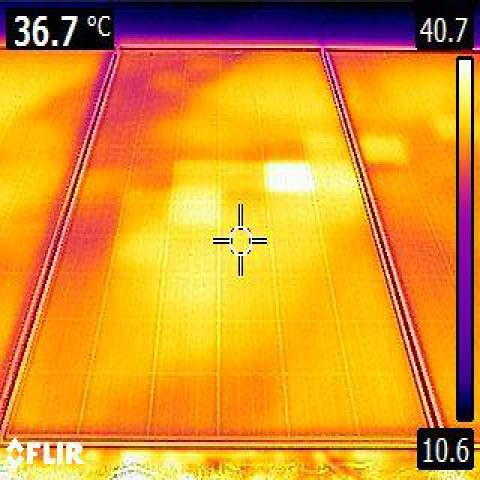fault: (268, 160, 312, 190)
